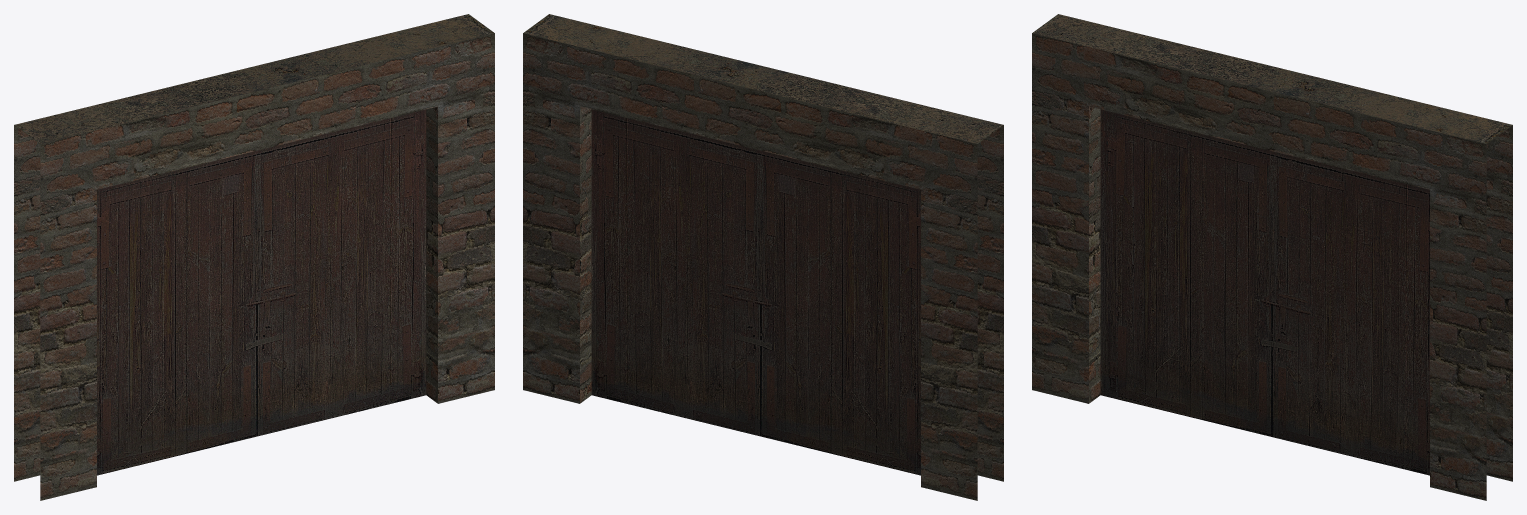
Rendered from garage_door_frame_hr_2.glb.
3 views of the same model, side by side, from view 1: azimuth 30°, elevation 25°; view 2: azimuth 150°, elevation 25°; view 3: azimuth 330°, elevation 25° (orthographic).
Parts seen in each view (by area): view 1: garage_door_hm_5, garage_door_frame_hr_2; view 2: garage_door_hm_5, garage_door_frame_hr_2; view 3: garage_door_hm_5, garage_door_frame_hr_2.
Boxes of the visible parts, left/top/right/bottom form: garage_door_hm_5: left=97, top=109, right=426, bottom=475; garage_door_frame_hr_2: left=14, top=14, right=494, bottom=500; garage_door_hm_5: left=591, top=109, right=920, bottom=475; garage_door_frame_hr_2: left=523, top=14, right=1003, bottom=500; garage_door_hm_5: left=1100, top=109, right=1429, bottom=475; garage_door_frame_hr_2: left=1032, top=14, right=1512, bottom=500.
Size of the model in its own units: 4 by 3 by 0.4.
Materials: 3 (3 with a texture image).
